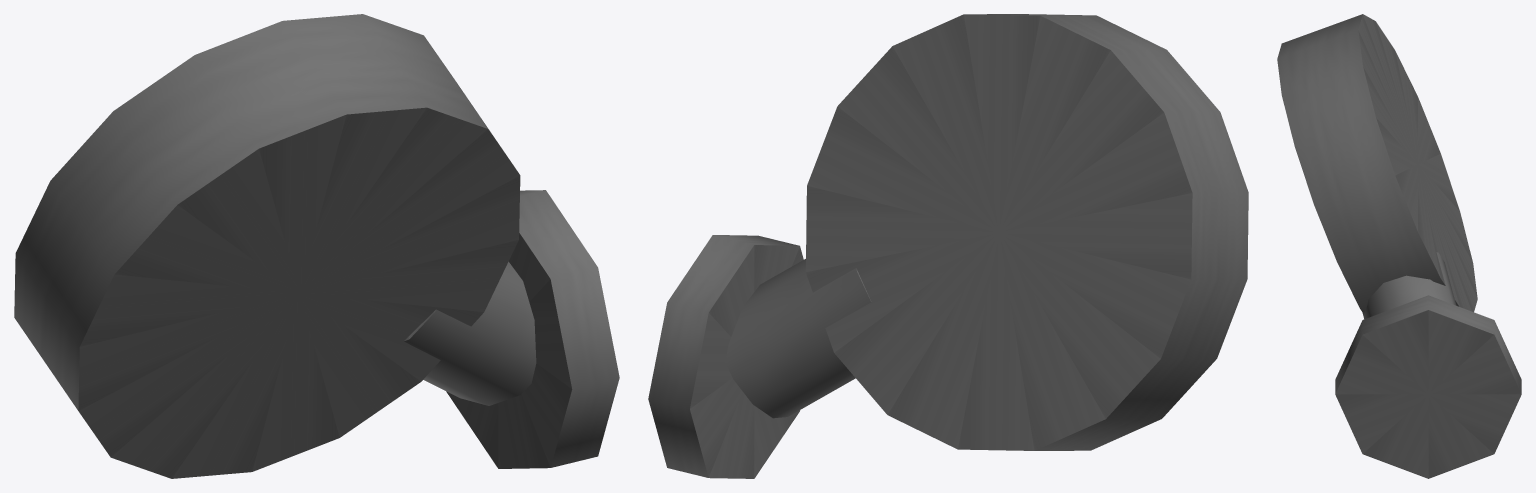
File: mastarmcurve_6x2_c3_east.obj
The picture shows the model from 3 angles, left to right: view 1: azimuth 30°, elevation 25°; view 2: azimuth 150°, elevation 25°; view 3: azimuth 270°, elevation 25°; orthographic projection. The views are drawn at different scales.
Parts seen in each view (by area): view 1: mastarm_6x2_c3_east; view 2: mastarm_6x2_c3_east; view 3: mastarm_6x2_c3_east.
Boxes of the visible parts, x1,y1,x2,y2 form: mastarm_6x2_c3_east: (14,14,619,478); mastarm_6x2_c3_east: (648,14,1248,478); mastarm_6x2_c3_east: (1277,14,1521,478).
Size of the model in its own units: 0.8432 by 0.8303 by 0.5244.
